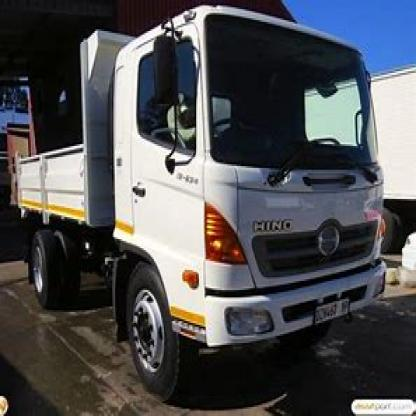dump_truck: (13, 13, 414, 400)
